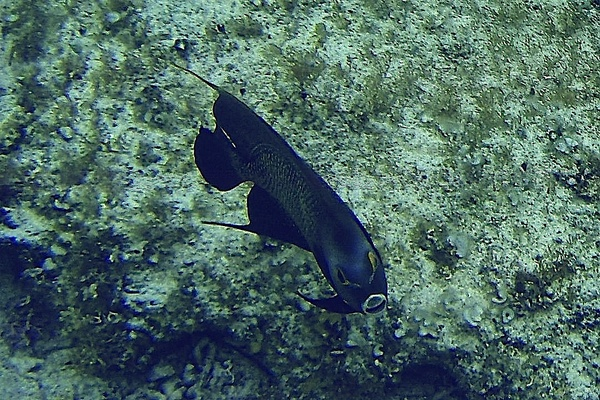Pomacanthus_paru: (158, 58, 404, 324)
